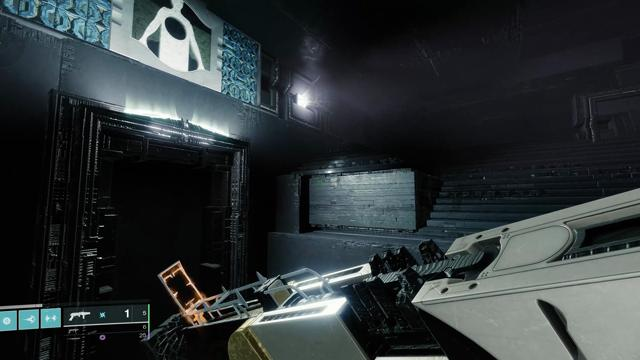grief: (132, 0, 212, 72)
